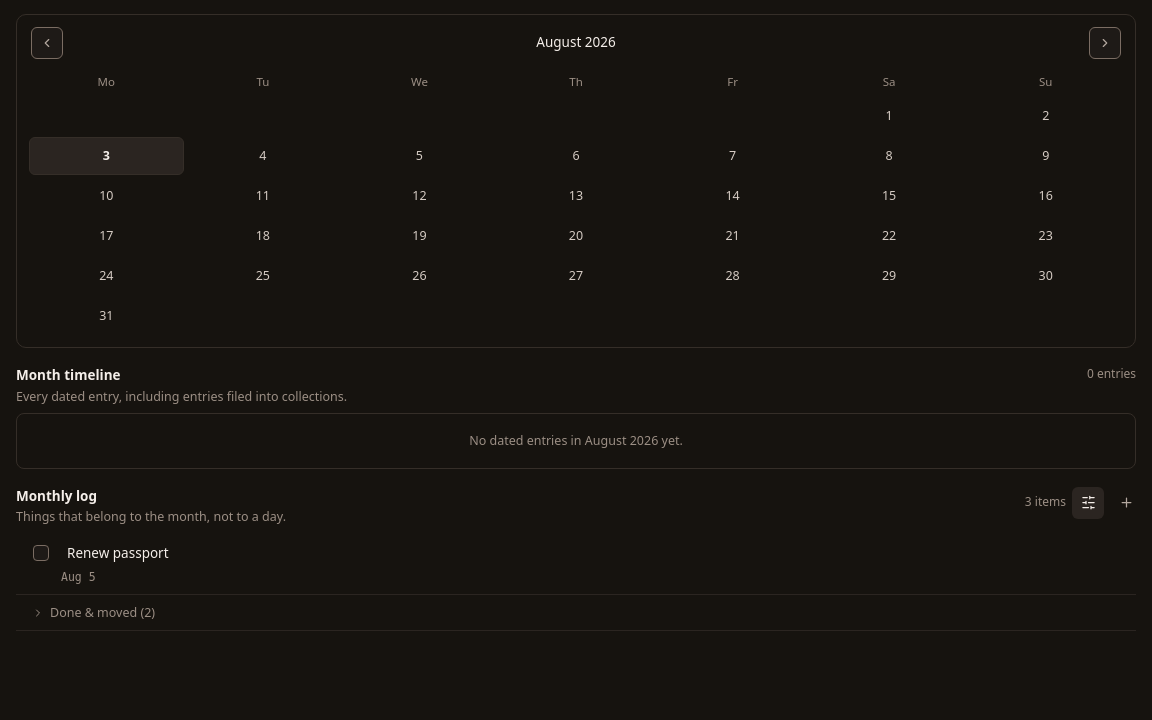
MonthView › collapses finished work behind a Done & moved disclosure
expect the text "Renew passport" is shown: met, box [67,544,168,562]
expect the text "Call plumber" is not shown: met
Click the heading "Done & moved (2)". click: click(103, 612)
box: [16,595,1136,631]
(page scrolled)
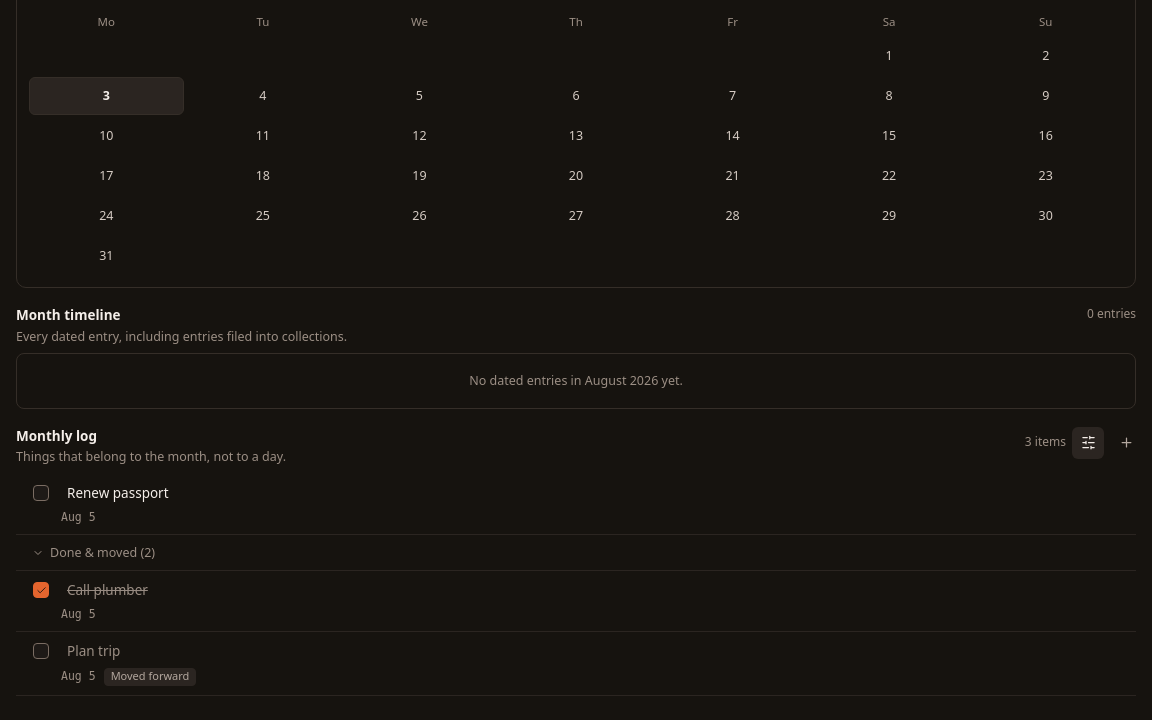
expect the text "Call plumber" is shown: met, box [67,581,148,599]
expect the text "Plan trip" is shown: met, box [67,642,120,660]
